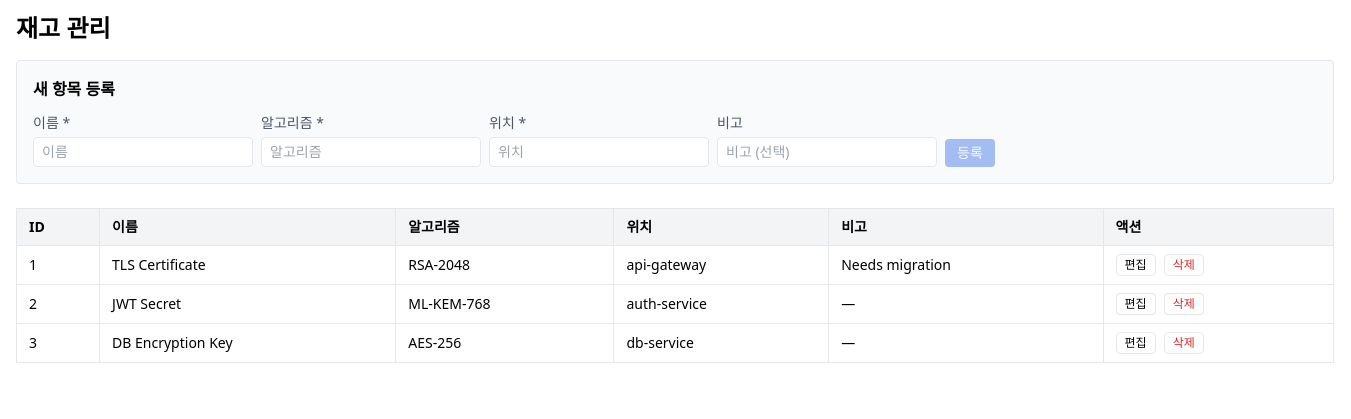
Test: InventoryPage › 등록 성공 시 목록에 추가
Expected: the text "TLS Certificate" is shown, [100,246,396,284]
Type "New Item" into the field with placeholder "이름" at (143, 152), box [33,137,253,167]
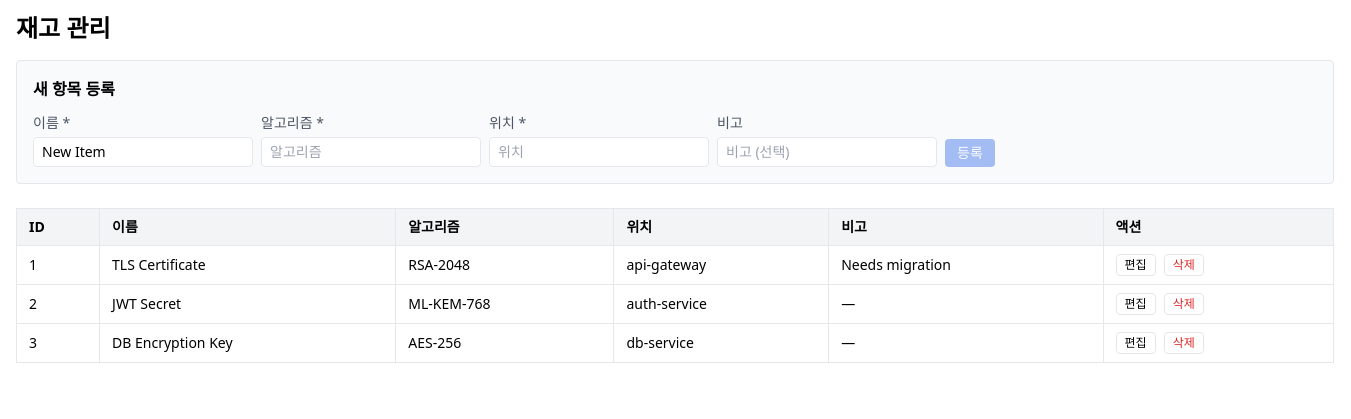
Type "ML-KEM-512" into the field with placeholder "알고리즘" at (371, 152), box [261,137,481,167]
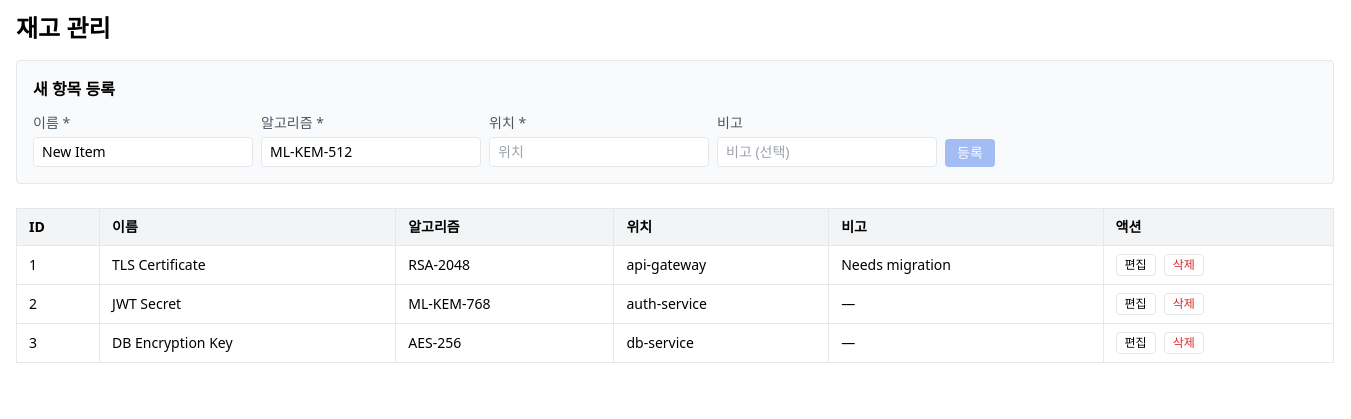
Type "service-x" into the field with placeholder "위치" at (599, 152), box [489,137,709,167]
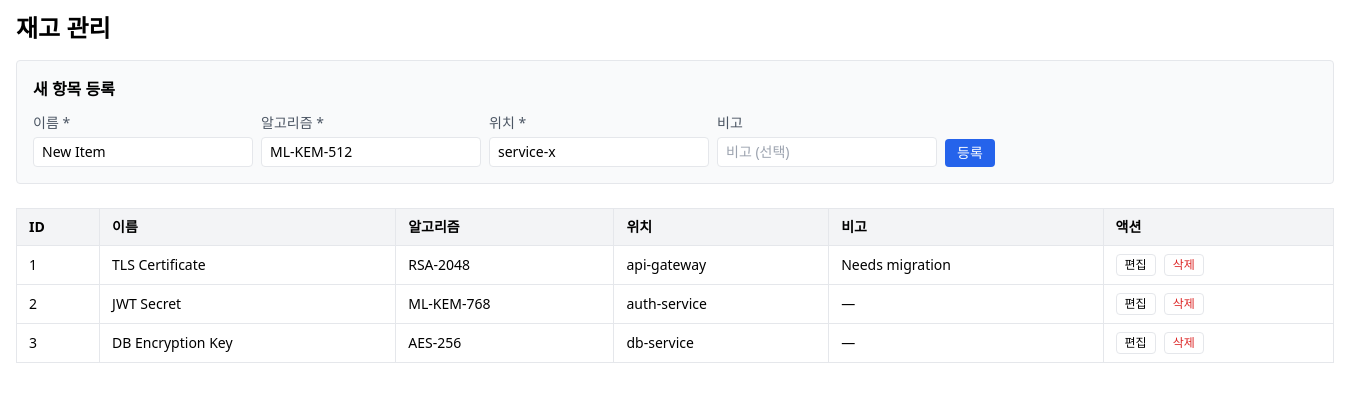
Click the button "등록" at (970, 153), box [945,139,995,167]
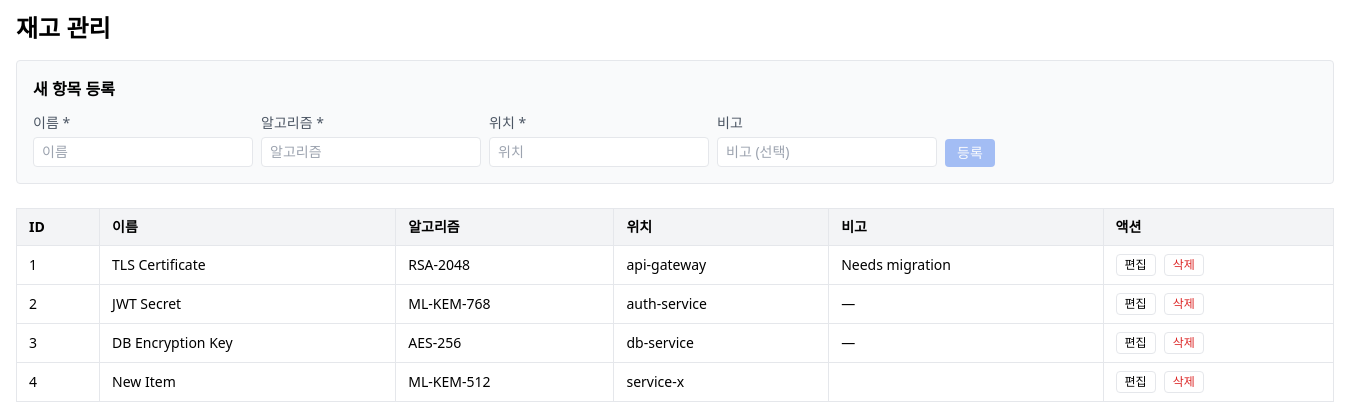
Expected: the text "New Item" is shown, [100,362,396,402]
